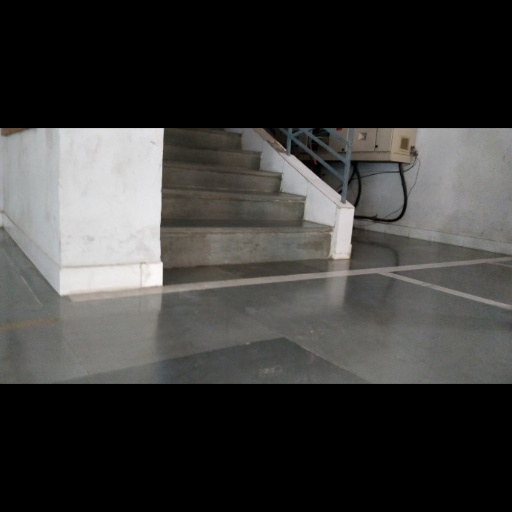Stairs: (161, 129, 352, 268)
